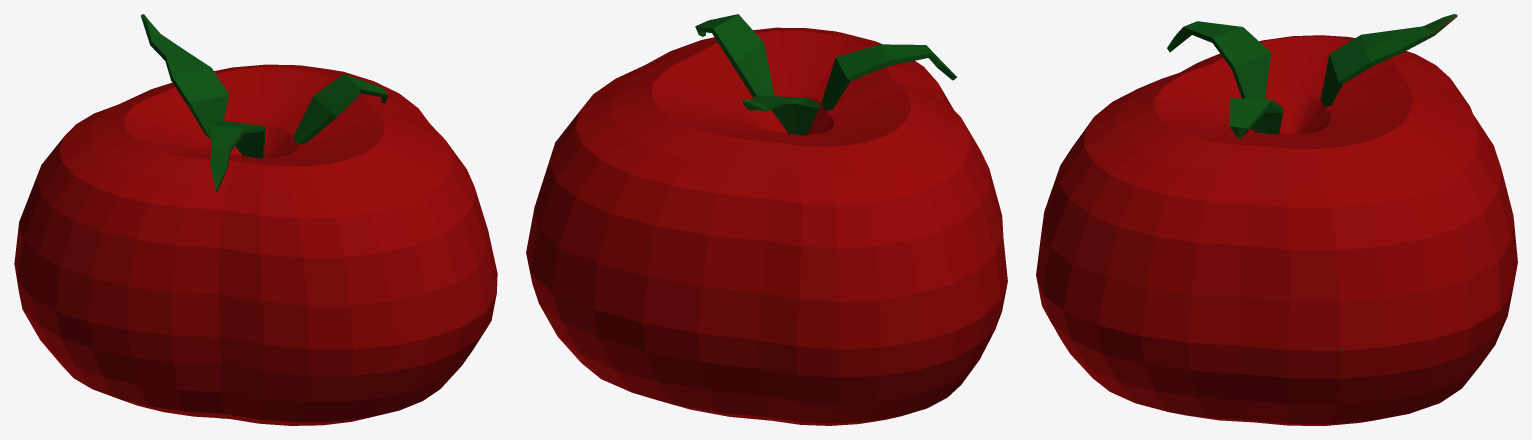
The model's file is Pomodoro.fbx.
3 renders of one model, left to right at view 1: azimuth 30°, elevation 25°; view 2: azimuth 150°, elevation 25°; view 3: azimuth 270°, elevation 25°, orthographic. The views are drawn at different scales.
Visible parts, largest first — view 1: Sphere; view 2: Sphere; view 3: Sphere.
Part boxes in pixels (x1,y1,x2,y2): Sphere: (14, 14, 497, 425); Sphere: (526, 14, 1007, 425); Sphere: (1036, 14, 1517, 425).
Size of the model in its own units: 184 by 144 by 179.
Materials: 1 (1 with a texture image).
